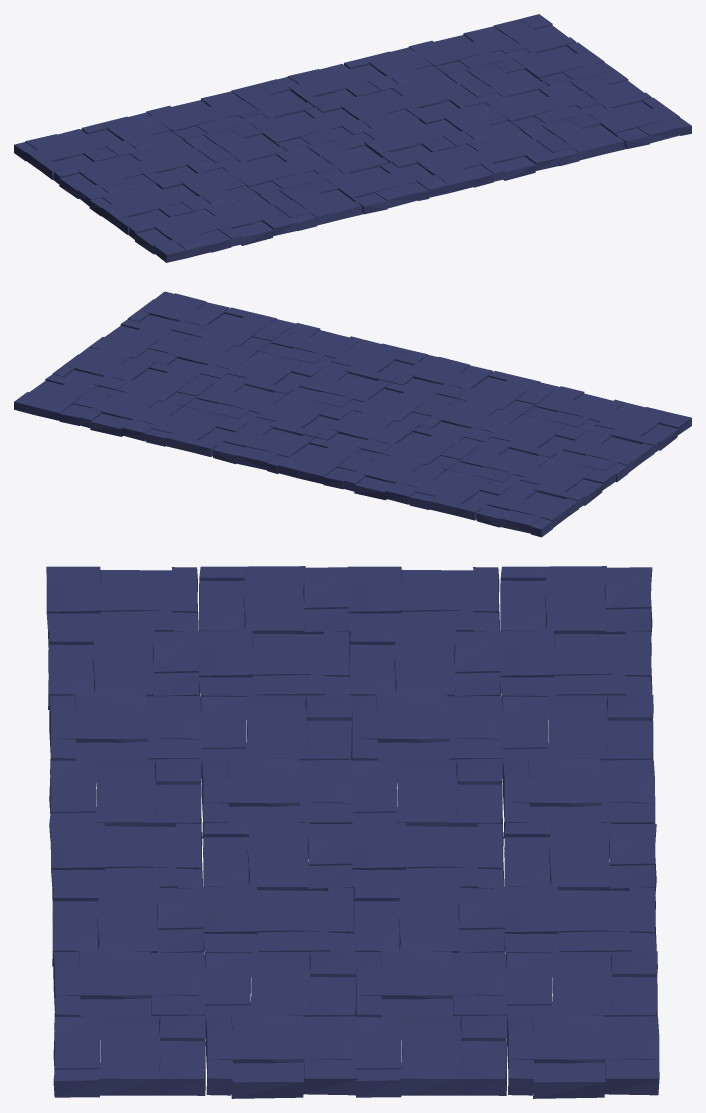
Rendered from Ground_Single32.FBX.
3 renders of one model, top to bottom at view 1: azimuth 30°, elevation 25°; view 2: azimuth 150°, elevation 25°; view 3: azimuth 270°, elevation 25°, orthographic. The views are drawn at different scales.
Visible parts, largest first — view 1: Object129; view 2: Object129; view 3: Object129.
Boxes of the visible parts, left/top/right/bottom form: Object129: left=14, top=14, right=691, bottom=262; Object129: left=14, top=291, right=691, bottom=537; Object129: left=46, top=566, right=659, bottom=1098.
Size of the model in its own units: 323 by 6.12 by 163.
